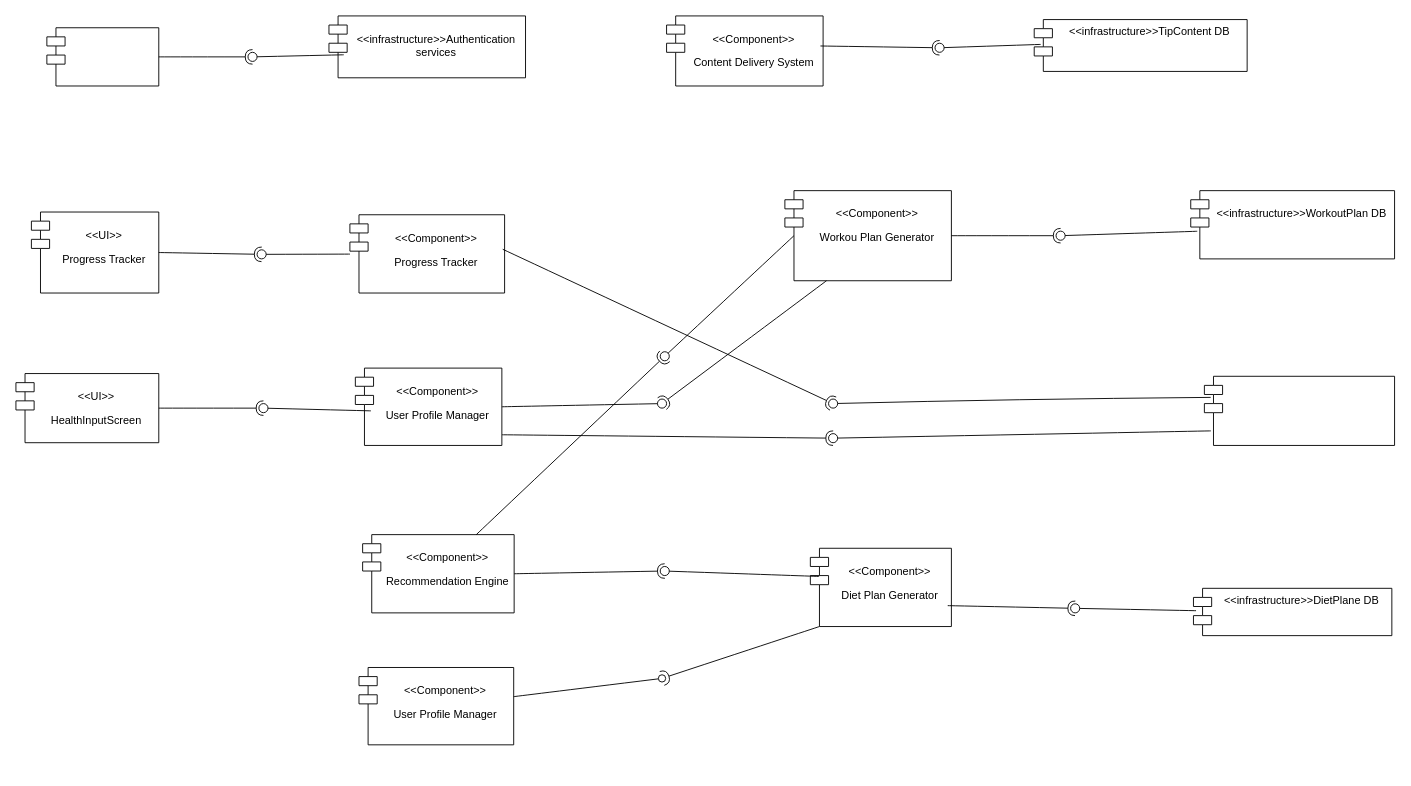
Some shapes in this 1411 by 786 pixel diagram are drawn without their labels. The centre of each missing label's shape, as x and y in pixels:
"<<infrastructure>>Usere DB" belongs at [1299,410].
"<<UI>> Log in" belongs at [102,56].
